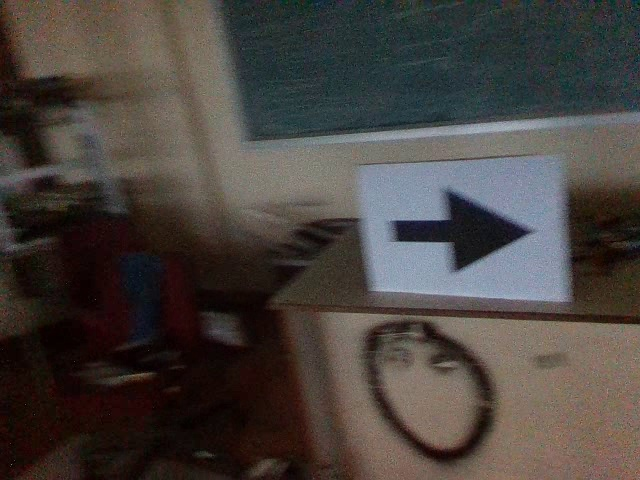Right: (381, 180, 539, 280)
